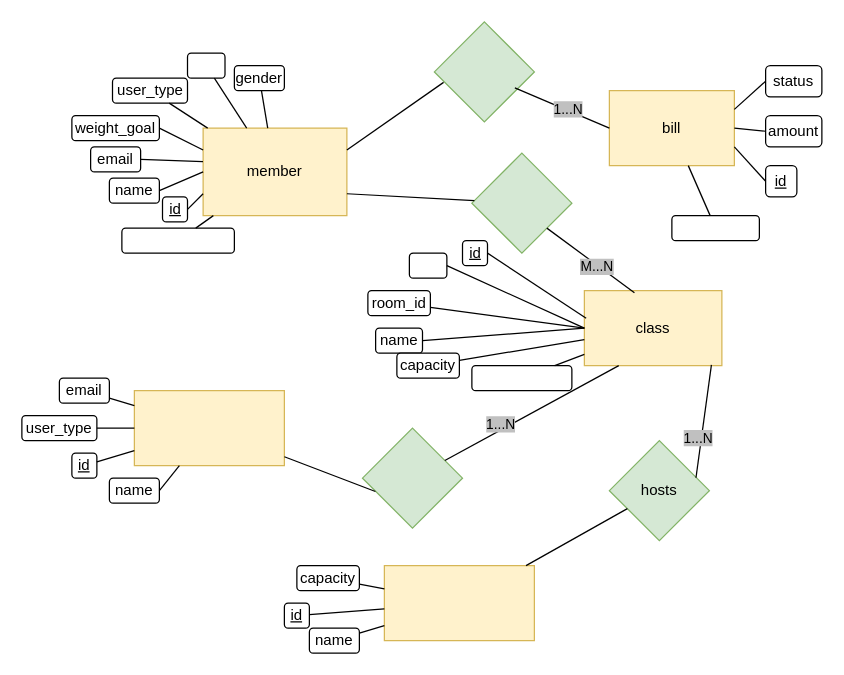
Image size: 844x675. Some labels were removed from this diagram. The shapes that lost their labels are listed below. From the top down, each one's box as (x1, y1, x2, y2) in pixels, then its label:
(186, 52, 225, 78): age
(433, 21, 534, 122): pays
(471, 152, 572, 253): enrolls
(121, 227, 234, 253): current_weight
(671, 214, 759, 241): created_at
(408, 252, 447, 278): time
(471, 364, 572, 391): day_of_week
(133, 389, 284, 466): Trainer
(361, 427, 462, 528): leads
(383, 564, 534, 641): Room
